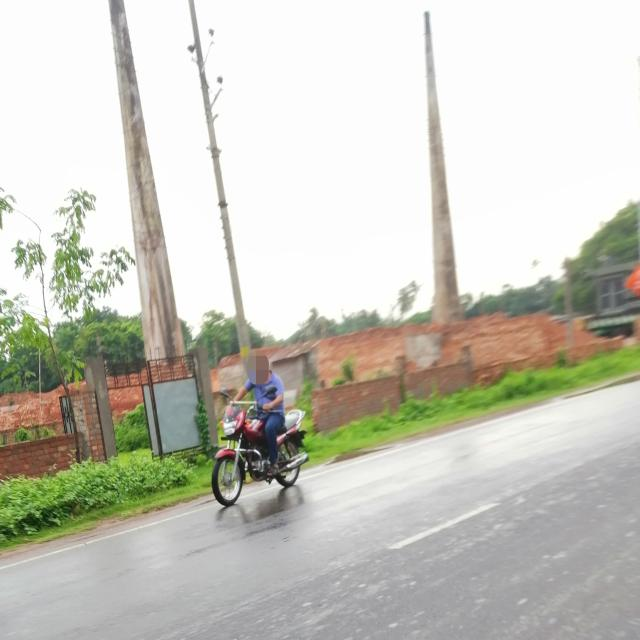Motorbike: (205, 387, 319, 517)
